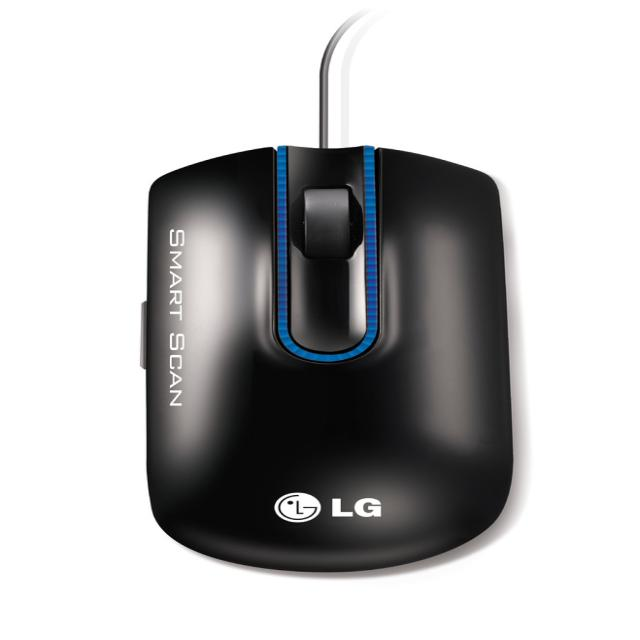Computer-mouse: (136, 142, 514, 570)
